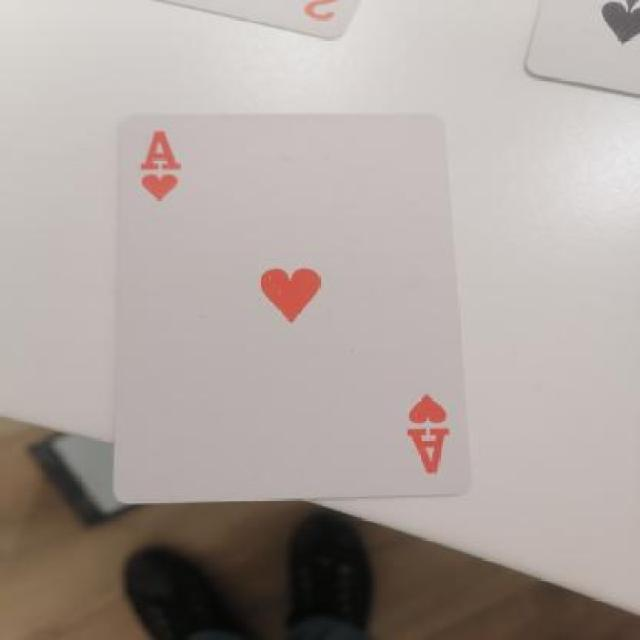AH: (368, 379, 466, 484), (130, 119, 199, 206)
